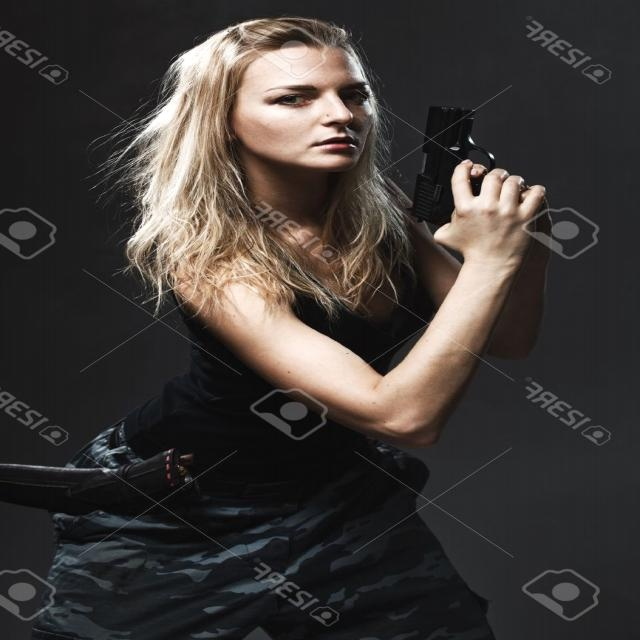gun: (385, 87, 555, 282)
